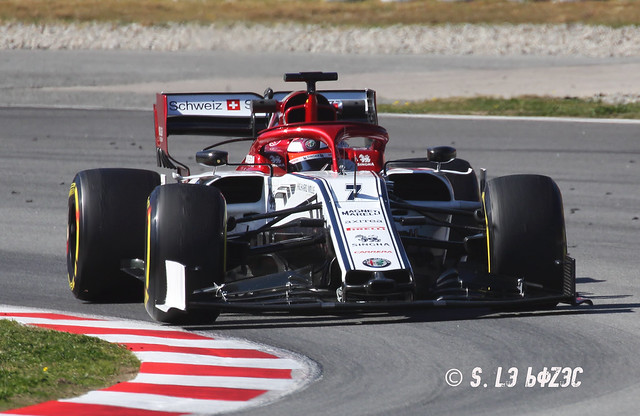F1 Car: (61, 69, 594, 330)
